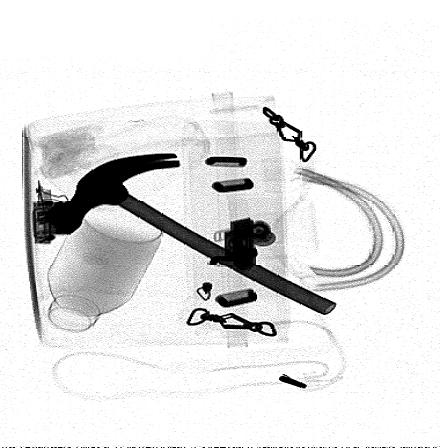Hammer: (42, 153, 337, 316)
